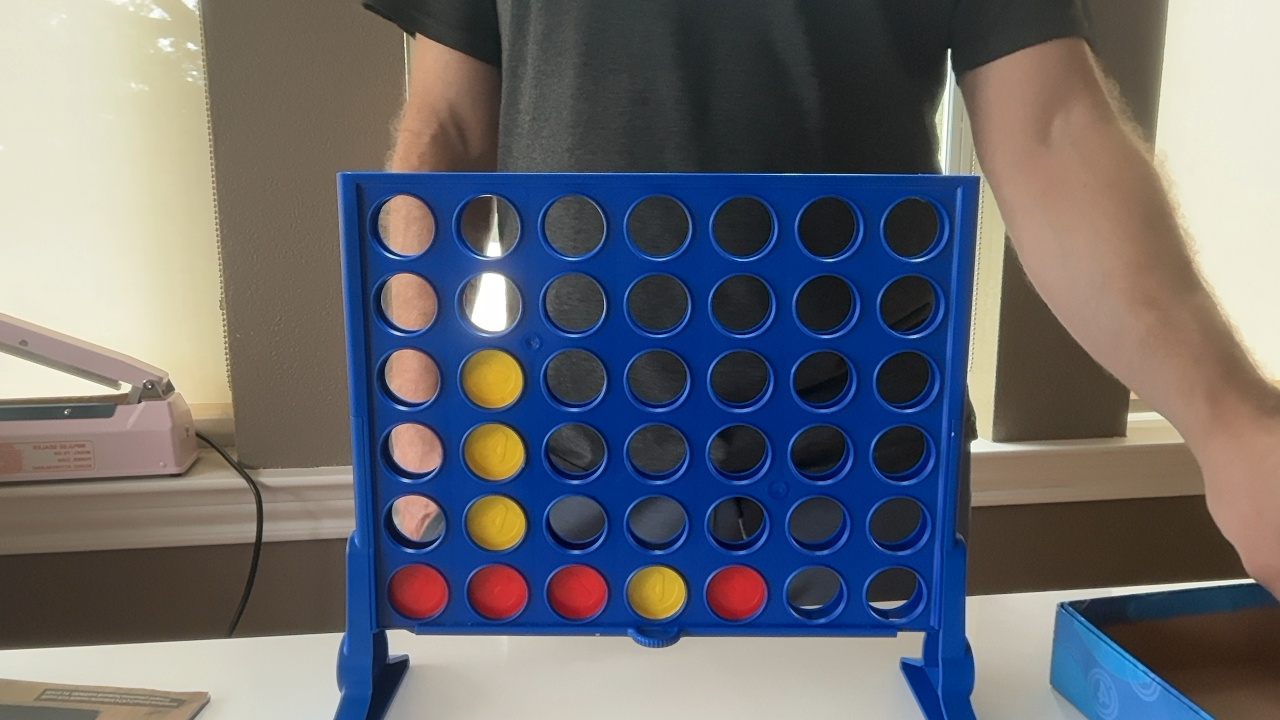red piece: (467, 564, 528, 620), (547, 564, 607, 620), (706, 565, 766, 621), (388, 564, 448, 619)
yellow piece: (461, 349, 523, 408), (463, 423, 525, 480), (466, 495, 526, 550), (627, 565, 686, 620)
